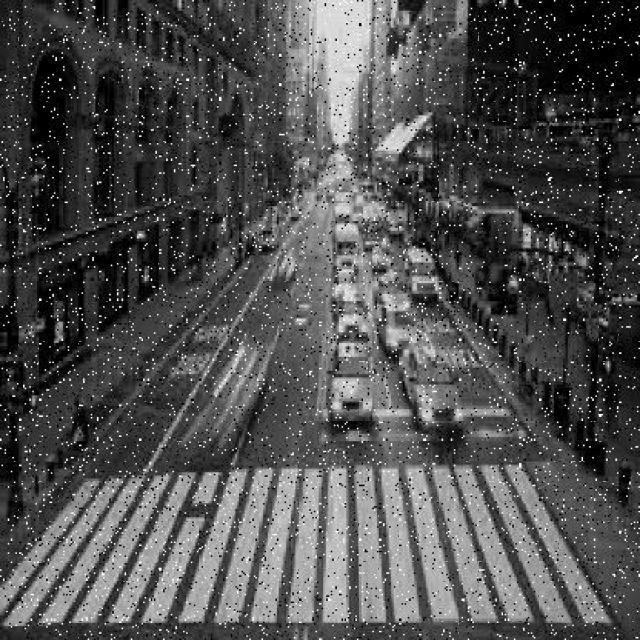Pedestrian crosswalk: (1, 462, 627, 630)
